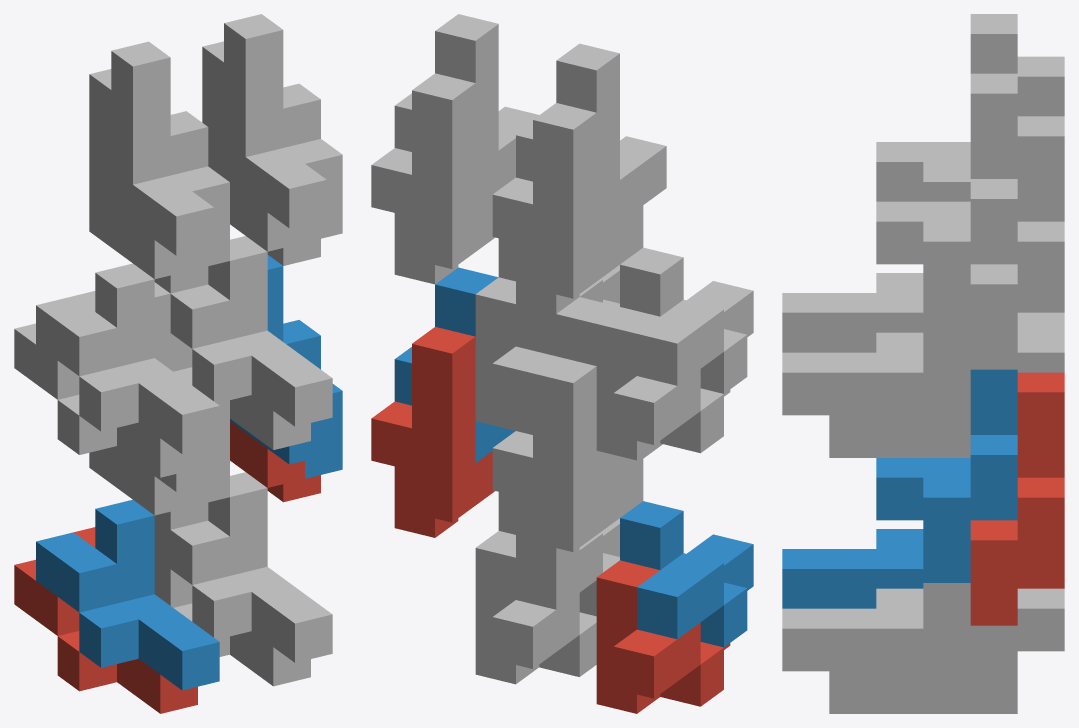
Rendered from tiling.obj.
3 views of the same model, side by side, from view 1: azimuth 30°, elevation 25°; view 2: azimuth 150°, elevation 25°; view 3: azimuth 270°, elevation 25° (orthographic). The views are drawn at different scales.
Visible parts, largest first — view 1: copy_2_domain_4, copy_1_domain_4, copy_1_domain_2, copy_2_domain_8, copy_1_domain_6, copy_1_domain_8, copy_2_domain_3, copy_1_domain_3, copy_1_domain_1, copy_2_domain_7, copy_2_domain_6, copy_2_domain_2 (+4 smaller); view 2: copy_2_domain_3, copy_2_domain_1, copy_2_domain_5, copy_2_domain_7, copy_1_domain_2, copy_1_domain_4, copy_1_domain_1, copy_1_domain_3, copy_1_domain_5, copy_2_domain_4, copy_2_domain_8, copy_1_domain_7 (+4 smaller); view 3: copy_2_domain_8, copy_2_domain_6, copy_1_domain_6, copy_1_domain_8, copy_2_domain_7, copy_2_domain_5, copy_1_domain_5, copy_2_domain_4, copy_1_domain_2, copy_1_domain_4, copy_1_domain_7, copy_2_domain_3 (+2 smaller).
Part boxes in pixels (x1,y1,x2,y2): copy_2_domain_4: (111, 41, 229, 269); copy_1_domain_4: (36, 263, 219, 454); copy_1_domain_2: (36, 499, 219, 690); copy_2_domain_8: (224, 14, 342, 242); copy_1_domain_6: (154, 472, 332, 662); copy_1_domain_8: (170, 236, 332, 426); copy_2_domain_3: (89, 69, 208, 293); copy_1_domain_3: (14, 291, 197, 477); copy_1_domain_1: (14, 527, 197, 713); copy_2_domain_7: (202, 41, 320, 265); copy_2_domain_6: (230, 255, 342, 478); copy_2_domain_2: (115, 282, 229, 506); copy_2_domain_3: (492, 103, 643, 313); copy_2_domain_1: (492, 356, 643, 567); copy_2_domain_5: (371, 327, 494, 537); copy_2_domain_7: (371, 73, 494, 284); copy_1_domain_2: (620, 501, 753, 647); copy_1_domain_4: (620, 247, 753, 393); copy_1_domain_1: (596, 560, 730, 713); copy_1_domain_3: (596, 307, 730, 460); copy_1_domain_5: (475, 531, 596, 684); copy_2_domain_4: (516, 43, 666, 238); copy_2_domain_8: (394, 14, 538, 209); copy_1_domain_7: (475, 277, 555, 430); copy_2_domain_8: (876, 73, 1017, 326); copy_2_domain_6: (876, 369, 1017, 582); copy_1_domain_6: (782, 583, 970, 671); copy_1_domain_8: (782, 327, 970, 415); copy_2_domain_7: (970, 116, 1064, 369); copy_2_domain_5: (970, 372, 1064, 625); copy_1_domain_5: (829, 588, 1064, 713); copy_2_domain_4: (876, 14, 1017, 201); copy_1_domain_2: (782, 529, 923, 608); copy_1_domain_4: (782, 273, 923, 352); copy_1_domain_7: (829, 332, 1064, 457); copy_2_domain_3: (1017, 56, 1064, 116).
Bounding box in the file's own units: 7 × 15 × 6.
